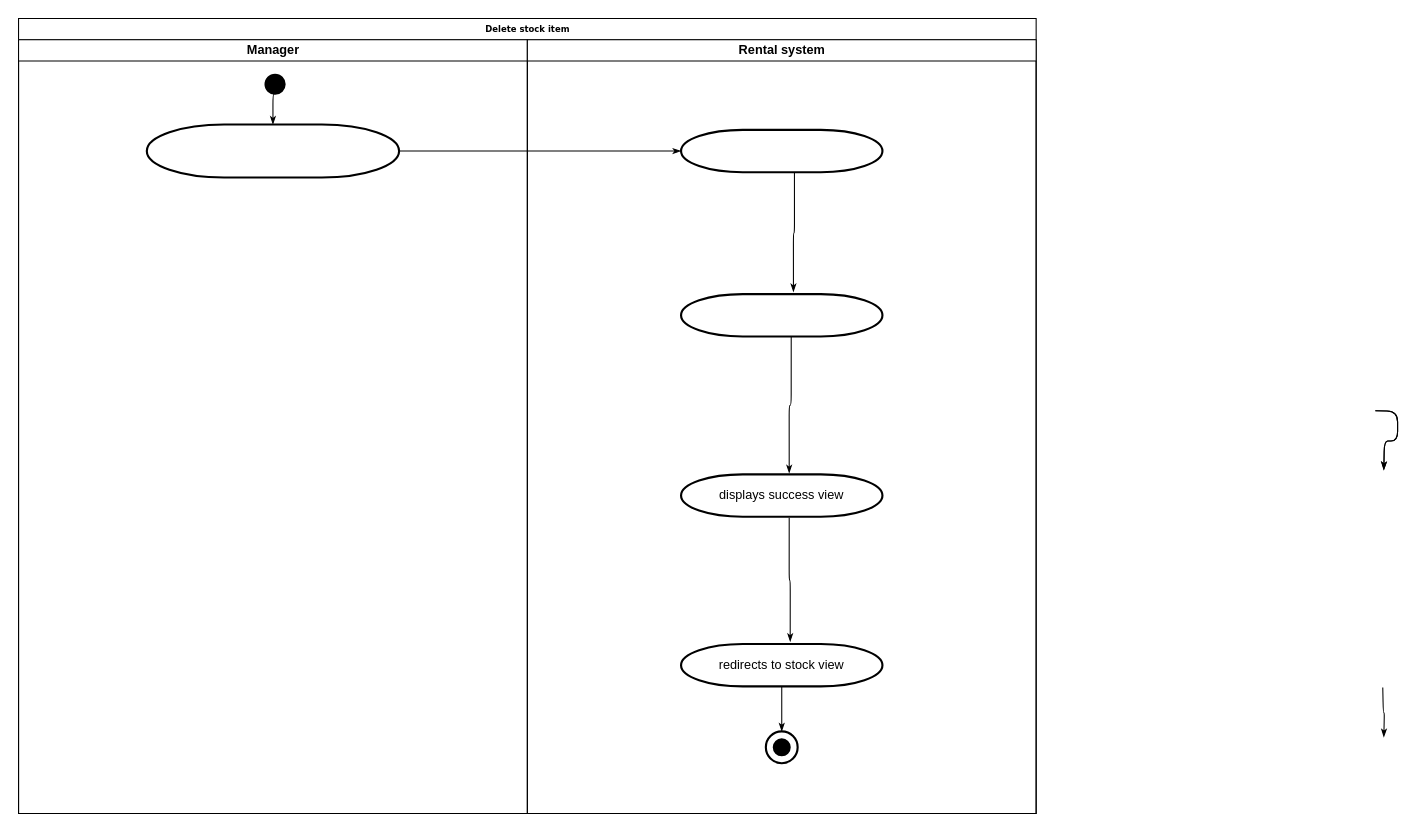
Some shapes in this 1424 by 832 pixel diagram are drawn without their labels. The centre of each missing label's shape, as x and y in pixels:
"Clicks delete stock item from stock view" goes at [272,150].
"deletes item from db" goes at [781,315].
"finds item in db by id" goes at [781,150].
